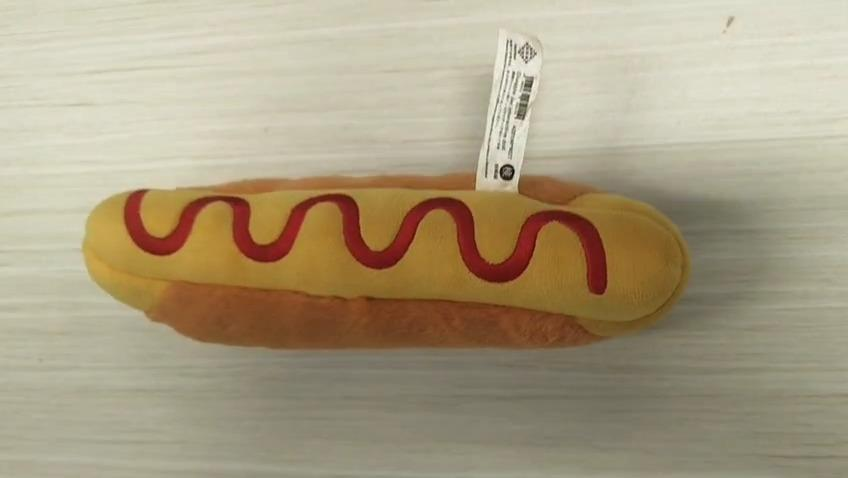hotdog: (81, 170, 691, 351)
